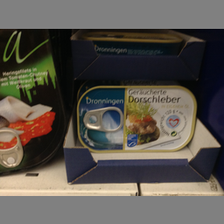fish: (1, 29, 65, 177), (75, 85, 197, 152)
